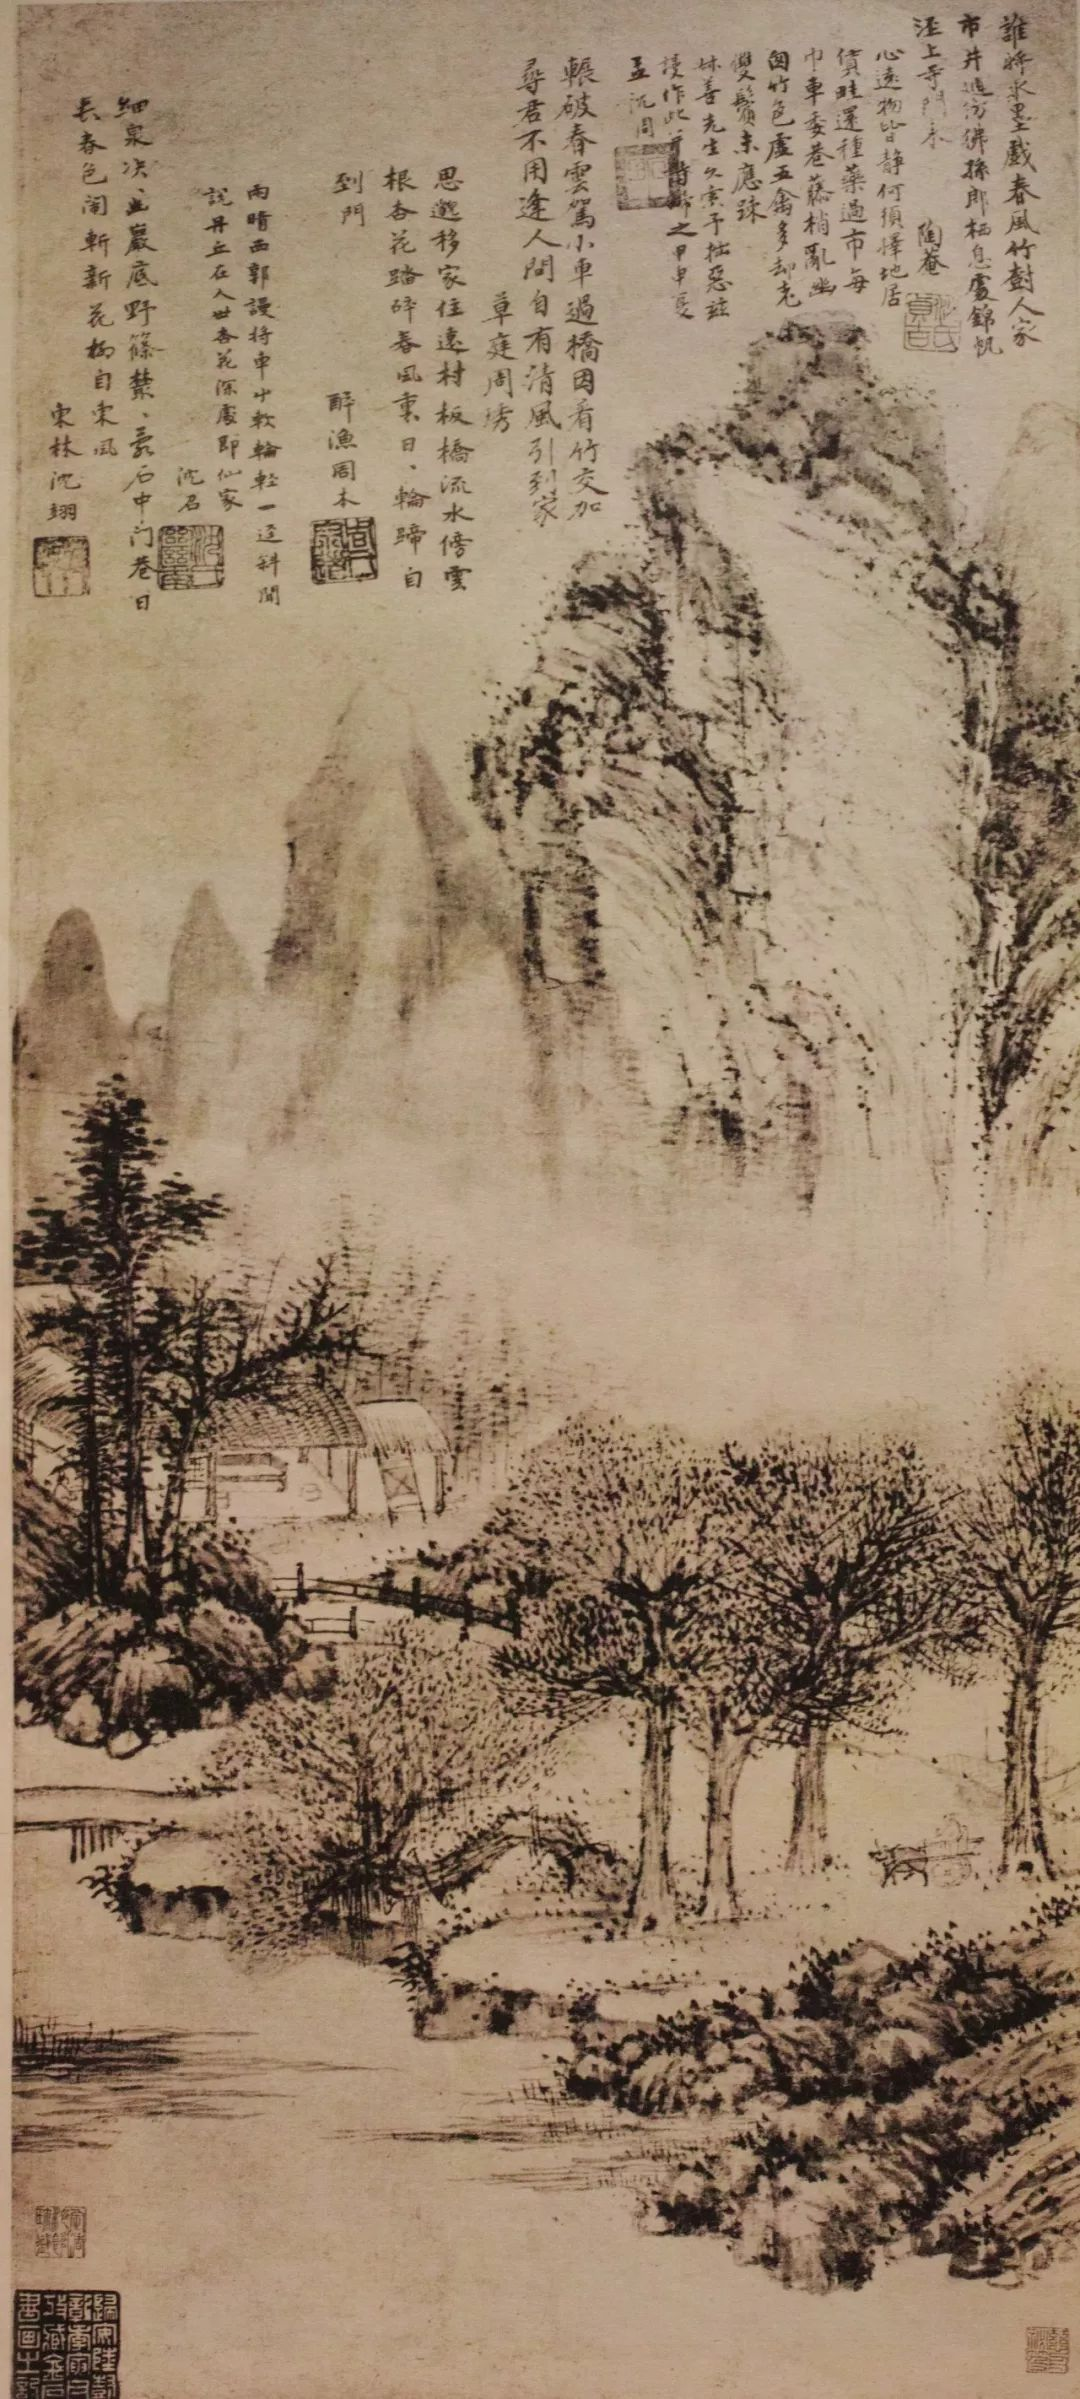bridge: (271, 1568, 515, 1658), (19, 1781, 200, 1834)
grass: (614, 1959, 1050, 2268)
house: (18, 1295, 435, 1514)
man: (881, 1813, 972, 1889)
mountain: (494, 344, 1051, 1195), (1, 654, 492, 1159)
river: (24, 1872, 538, 2370)
tree: (431, 1438, 1032, 1892), (1, 1090, 259, 1610)
